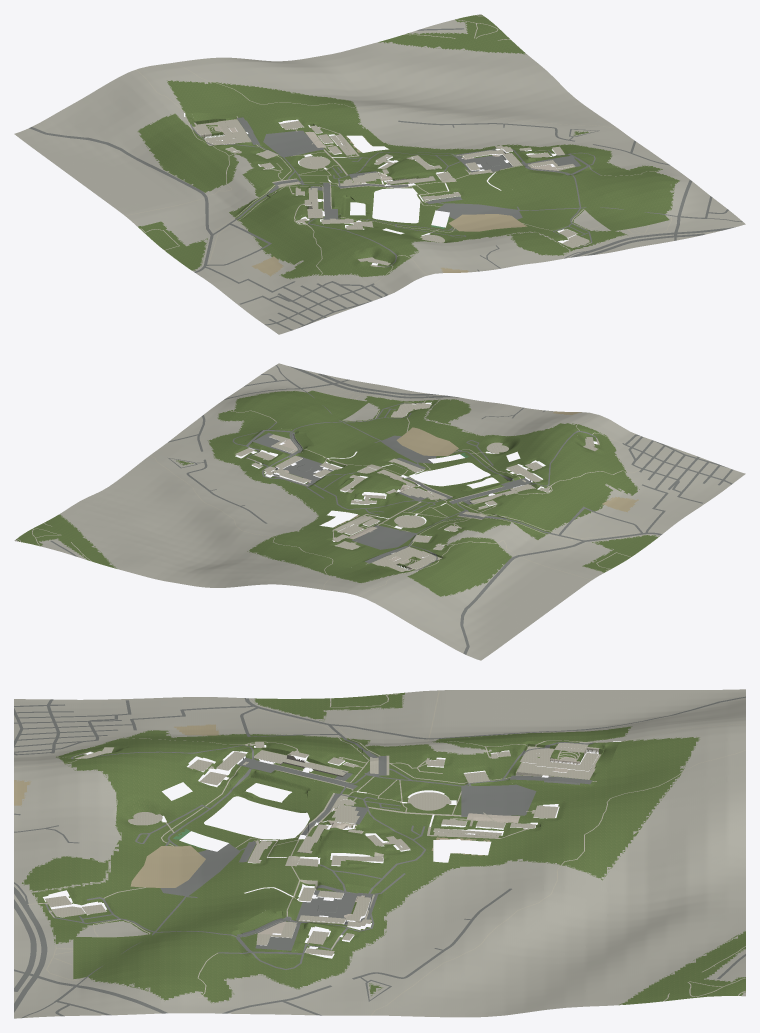
The picture shows the model from 3 angles, top to bottom: view 1: azimuth 30°, elevation 25°; view 2: azimuth 150°, elevation 25°; view 3: azimuth 270°, elevation 25°; orthographic projection. The views are drawn at different scales.
Parts seen in each view (by area): view 1: kyonggi-base, kyonggi-woodOver, kyonggi-asphalt, kyonggi-paving, kyonggi-grass, kyonggi-turf, kyonggi-gravelLot, kyonggi-woodOver-overlay; view 2: kyonggi-base, kyonggi-woodOver, kyonggi-asphalt, kyonggi-paving, kyonggi-grass, kyonggi-gravelLot, kyonggi-turf, kyonggi-woodOver-overlay, kyonggi-planted; view 3: kyonggi-base, kyonggi-woodOver, kyonggi-asphalt, kyonggi-paving, kyonggi-grass, kyonggi-gravelLot, kyonggi-turf, kyonggi-planted, kyonggi-graniteLight, kyonggi-woodOver-overlay, kyonggi-dirtField, kyonggi-approachWalk.
Boxes of the visible parts, <box> form: kyonggi-base: <box>14,14,745,334</box>; kyonggi-woodOver: <box>138,80,677,278</box>; kyonggi-asphalt: <box>29,28,742,330</box>; kyonggi-paving: <box>125,15,671,285</box>; kyonggi-grass: <box>138,15,588,270</box>; kyonggi-turf: <box>584,206,669,231</box>; kyonggi-gravelLot: <box>448,214,527,231</box>; kyonggi-woodOver-overlay: <box>137,80,679,279</box>; kyonggi-base: <box>14,363,745,660</box>; kyonggi-woodOver: <box>208,391,637,596</box>; kyonggi-asphalt: <box>50,365,733,654</box>; kyonggi-paving: <box>17,388,640,596</box>; kyonggi-grass: <box>16,399,657,572</box>; kyonggi-gravelLot: <box>396,427,458,455</box>; kyonggi-turf: <box>308,390,369,420</box>; kyonggi-woodOver-overlay: <box>207,391,639,596</box>; kyonggi-planted: <box>289,433,537,571</box>; kyonggi-base: <box>14,689,745,1018</box>; kyonggi-woodOver: <box>32,726,698,1002</box>; kyonggi-asphalt: <box>14,696,745,1017</box>; kyonggi-paving: <box>14,690,745,1015</box>; kyonggi-grass: <box>24,692,745,1004</box>; kyonggi-gravelLot: <box>130,845,205,887</box>; kyonggi-turf: <box>73,934,151,978</box>; kyonggi-planted: <box>239,741,606,933</box>; kyonggi-graniteLight: <box>251,741,618,934</box>; kyonggi-woodOver-overlay: <box>32,726,699,1003</box>; kyonggi-dirtField: <box>14,724,488,855</box>; kyonggi-approachWalk: <box>27,741,535,949</box>.
Bounding box in the file's own units: 1136 × 107 × 1116.
Materials: 28 (22 with a texture image).
